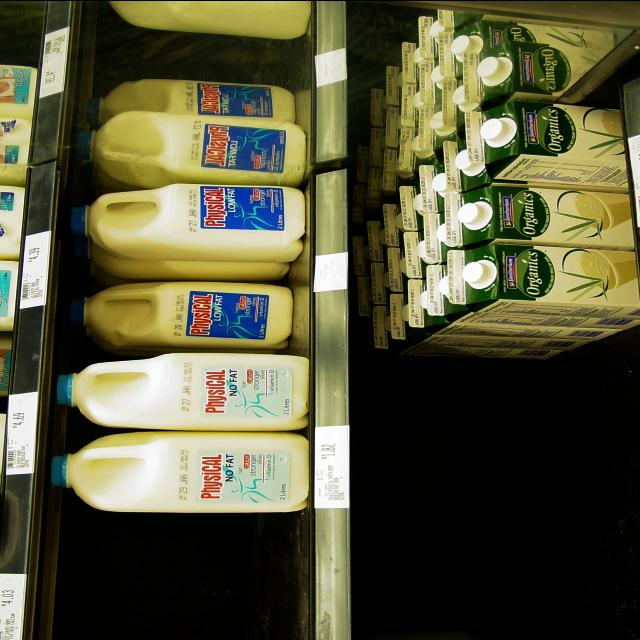empty_space: (390, 367, 630, 617), (68, 528, 280, 628)
